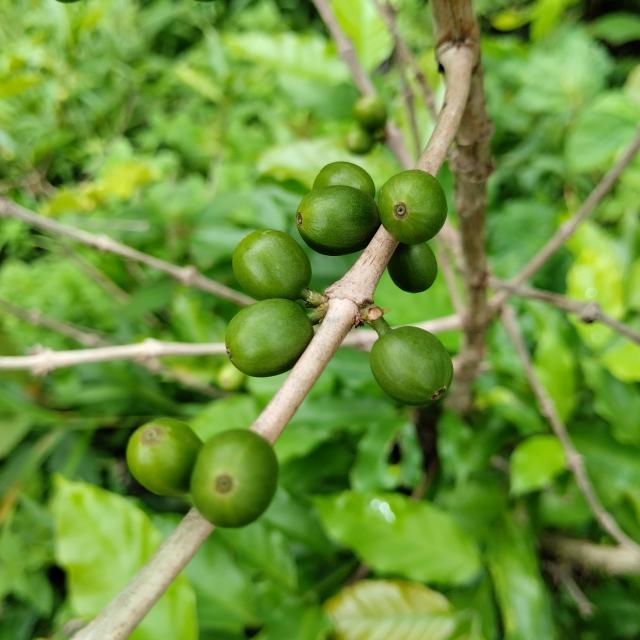green: (190, 430, 278, 528), (225, 298, 314, 377), (370, 326, 454, 406), (295, 185, 381, 256), (126, 419, 202, 496), (232, 228, 312, 301), (378, 169, 448, 244), (387, 242, 438, 293), (312, 161, 376, 198)
